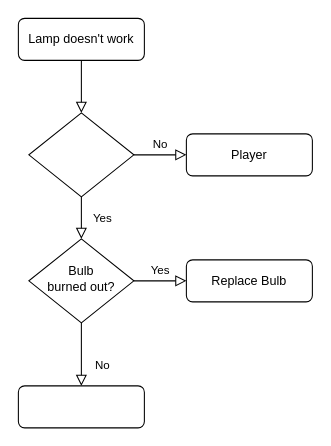
This 331x446 diagram has some shape labels left out. The shapes that lost their labels are listed below. From the top down, each one's centre as x and y in pixels, then its label:
pixel 81 154: User
pixel 80 406: Repair Lamp
